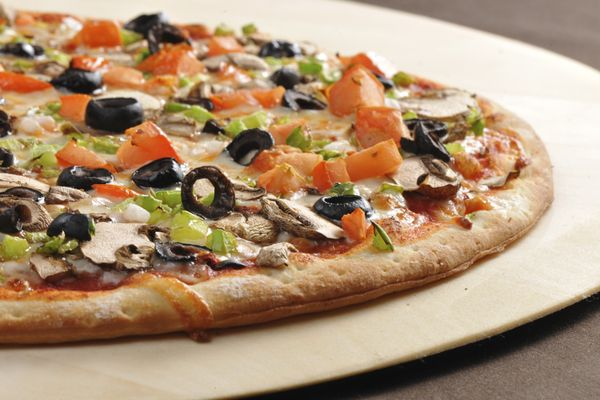sandwich: (0, 8, 538, 340)
